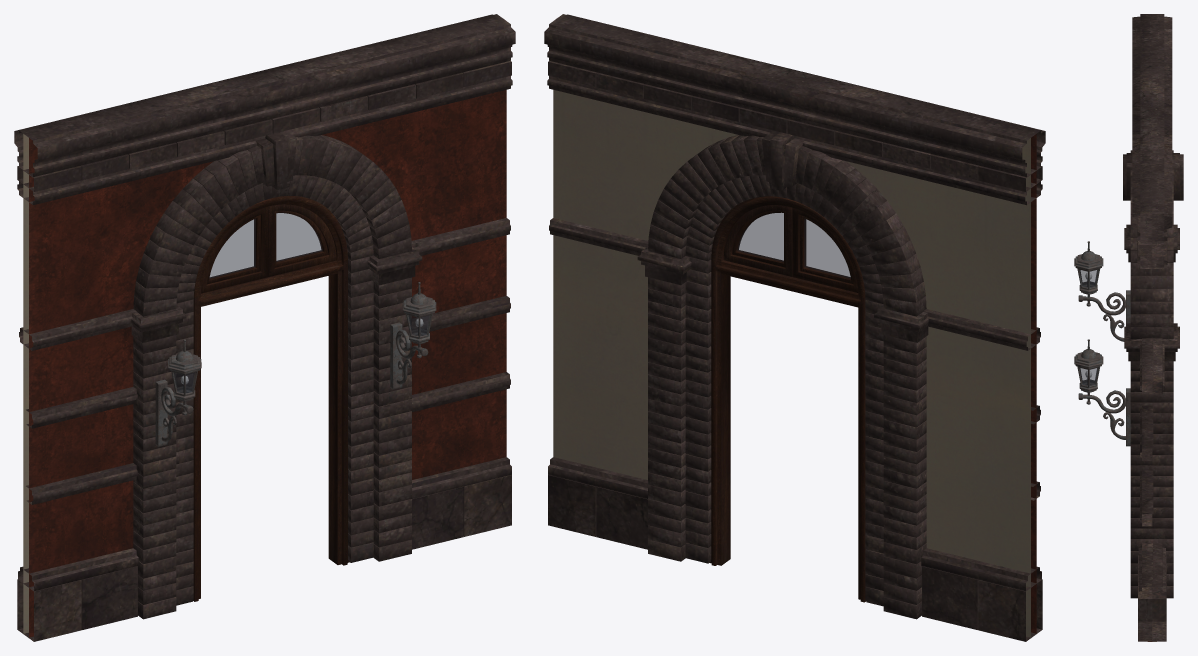
The model's file is SK2 DOOR 2.fbx.
3 views of the same model, side by side, from view 1: azimuth 30°, elevation 25°; view 2: azimuth 150°, elevation 25°; view 3: azimuth 270°, elevation 25° (orthographic). The views are drawn at different scales.
Parts seen in each view (by area): view 1: SK2 DOOR 2.001; view 2: SK2 DOOR 2.001; view 3: SK2 DOOR 2.001.
Part boxes in pixels (x1,y1,x2,y2): SK2 DOOR 2.001: (14,14,515,641); SK2 DOOR 2.001: (544,14,1045,641); SK2 DOOR 2.001: (1074,14,1183,641).
Bounding box in the file's own units: 400 × 401 × 92.42.
